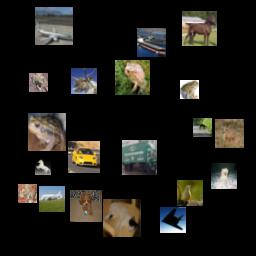airplane: (35, 7, 73, 45), (39, 186, 65, 212), (160, 207, 186, 233)
automobile: (68, 141, 100, 173)
bird: (177, 180, 203, 206)
cat: (103, 199, 141, 237)
deer: (215, 119, 244, 148), (71, 68, 97, 94), (193, 118, 212, 137)
dog: (70, 190, 102, 222), (211, 163, 237, 189)
frog: (28, 113, 66, 151), (115, 60, 150, 95), (29, 73, 48, 92), (180, 80, 199, 99), (18, 184, 37, 203)
ship: (137, 28, 166, 57)
truck: (122, 140, 157, 175)
